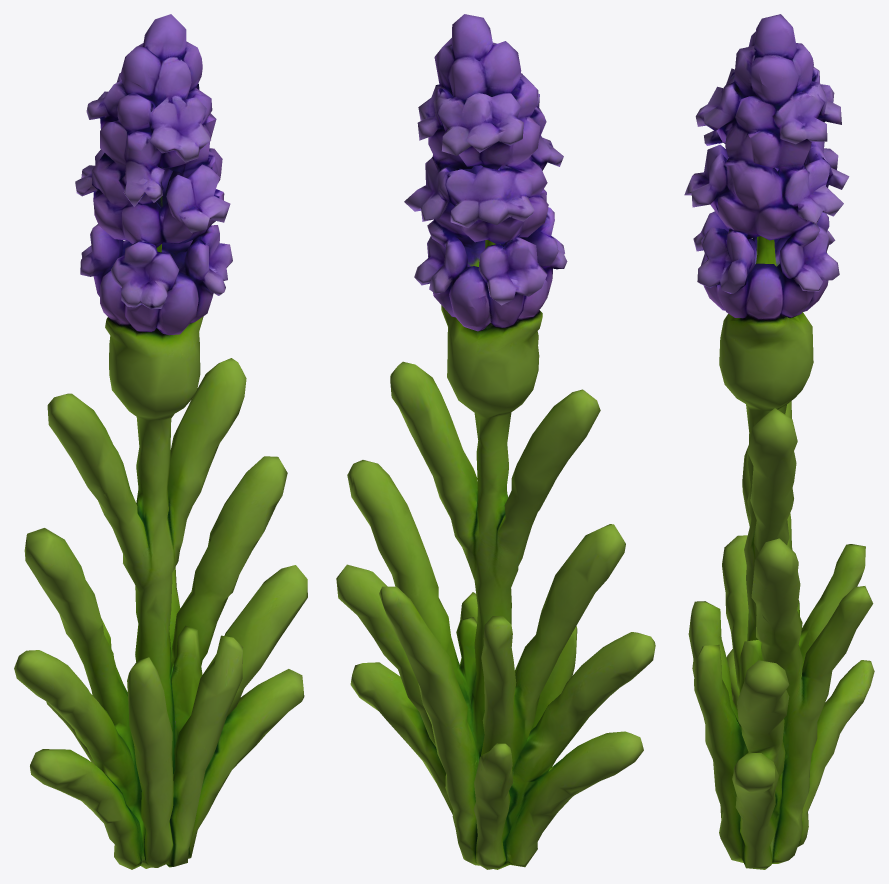
Rendered from lavender_s4.glb.
3 views of the same model, side by side, from view 1: azimuth 30°, elevation 25°; view 2: azimuth 150°, elevation 25°; view 3: azimuth 270°, elevation 25° (orthographic).
Visible parts, largest first — view 1: tripo_node_272bb139-cf78-4490-bbf7-7be4476c5783; view 2: tripo_node_272bb139-cf78-4490-bbf7-7be4476c5783; view 3: tripo_node_272bb139-cf78-4490-bbf7-7be4476c5783.
Part boxes in pixels (<box>): tripo_node_272bb139-cf78-4490-bbf7-7be4476c5783: <box>14,14,307,869</box>; tripo_node_272bb139-cf78-4490-bbf7-7be4476c5783: <box>336,14,655,869</box>; tripo_node_272bb139-cf78-4490-bbf7-7be4476c5783: <box>684,14,874,869</box>.
Bounding box in the file's own units: 0.3771 × 1 × 0.2027.
1 material, 1 textured.
